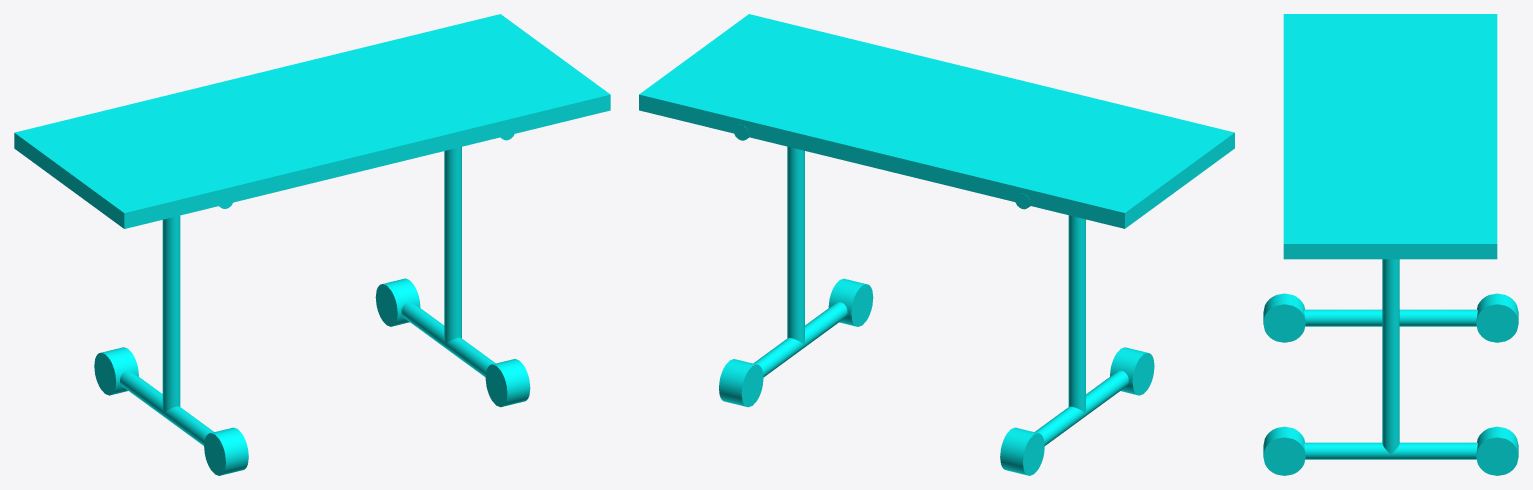
The model's file is rolling_table_mm.dae.
3 renders of one model, left to right at view 1: azimuth 30°, elevation 25°; view 2: azimuth 150°, elevation 25°; view 3: azimuth 270°, elevation 25°, orthographic. The views are drawn at different scales.
Visible parts, largest first — view 1: a771e2ff-76b0-40cf-84a3-96dd60292a95, e4f05dfb-cbc2-4f18-a9a6-97e8916d5caa, f3a2525a-637a-48bf-a8ac-7b56f6140f12, e4ffbd00-d4ff-45ed-85ca-5888b7198ad7, a60554d9-6d71-48c1-b4b3-58f1f6b5c6df, a2a1168e-e8bb-439a-a6bf-6aba9ba96a63, d0b2bf98-1d59-45cc-ba1f-106d4718a701; view 2: a771e2ff-76b0-40cf-84a3-96dd60292a95, e4f05dfb-cbc2-4f18-a9a6-97e8916d5caa, f3a2525a-637a-48bf-a8ac-7b56f6140f12, a2a1168e-e8bb-439a-a6bf-6aba9ba96a63, d0b2bf98-1d59-45cc-ba1f-106d4718a701, a60554d9-6d71-48c1-b4b3-58f1f6b5c6df, e4ffbd00-d4ff-45ed-85ca-5888b7198ad7; view 3: a771e2ff-76b0-40cf-84a3-96dd60292a95, f3a2525a-637a-48bf-a8ac-7b56f6140f12, e4f05dfb-cbc2-4f18-a9a6-97e8916d5caa, a60554d9-6d71-48c1-b4b3-58f1f6b5c6df, d0b2bf98-1d59-45cc-ba1f-106d4718a701, e4ffbd00-d4ff-45ed-85ca-5888b7198ad7, a2a1168e-e8bb-439a-a6bf-6aba9ba96a63.
Boxes of the visible parts, bbox=[...] form: a771e2ff-76b0-40cf-84a3-96dd60292a95: bbox=[14, 14, 610, 228]; e4f05dfb-cbc2-4f18-a9a6-97e8916d5caa: bbox=[120, 202, 232, 445]; f3a2525a-637a-48bf-a8ac-7b56f6140f12: bbox=[401, 134, 514, 377]; e4ffbd00-d4ff-45ed-85ca-5888b7198ad7: bbox=[204, 427, 248, 475]; a60554d9-6d71-48c1-b4b3-58f1f6b5c6df: bbox=[485, 359, 530, 407]; a2a1168e-e8bb-439a-a6bf-6aba9ba96a63: bbox=[94, 347, 138, 395]; d0b2bf98-1d59-45cc-ba1f-106d4718a701: bbox=[375, 278, 420, 326]; a771e2ff-76b0-40cf-84a3-96dd60292a95: bbox=[639, 14, 1234, 228]; e4f05dfb-cbc2-4f18-a9a6-97e8916d5caa: bbox=[1015, 193, 1128, 445]; f3a2525a-637a-48bf-a8ac-7b56f6140f12: bbox=[733, 124, 847, 377]; a2a1168e-e8bb-439a-a6bf-6aba9ba96a63: bbox=[1000, 427, 1044, 475]; d0b2bf98-1d59-45cc-ba1f-106d4718a701: bbox=[719, 359, 763, 407]; a60554d9-6d71-48c1-b4b3-58f1f6b5c6df: bbox=[828, 278, 873, 326]; e4ffbd00-d4ff-45ed-85ca-5888b7198ad7: bbox=[1110, 347, 1154, 395]; a771e2ff-76b0-40cf-84a3-96dd60292a95: bbox=[1283, 14, 1497, 259]; f3a2525a-637a-48bf-a8ac-7b56f6140f12: bbox=[1304, 259, 1477, 459]; e4f05dfb-cbc2-4f18-a9a6-97e8916d5caa: bbox=[1304, 309, 1477, 326]; a60554d9-6d71-48c1-b4b3-58f1f6b5c6df: bbox=[1263, 426, 1305, 475]; d0b2bf98-1d59-45cc-ba1f-106d4718a701: bbox=[1476, 426, 1518, 475]; e4ffbd00-d4ff-45ed-85ca-5888b7198ad7: bbox=[1263, 293, 1305, 342]; a2a1168e-e8bb-439a-a6bf-6aba9ba96a63: bbox=[1476, 293, 1518, 342].
Size of the model in its own units: 1524 by 715 by 850.
